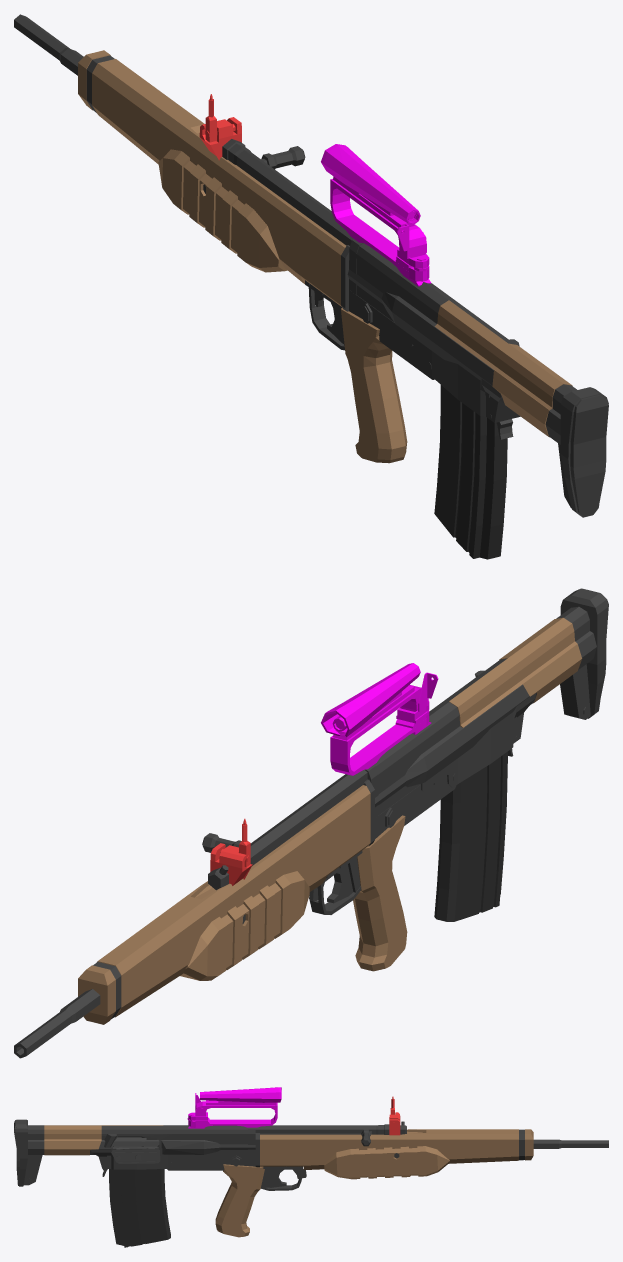
The model's file is fusil_14.glb.
3 renders of one model, top to bottom at view 1: azimuth 30°, elevation 25°; view 2: azimuth 150°, elevation 25°; view 3: azimuth 270°, elevation 25°, orthographic. The views are drawn at different scales.
Parts seen in each view (by area): view 1: p3_accent, p67_mag, p4_accent, p29_accent, p53_accent, p33_paint, p66_paint, p30_paint, p5_paint, p45_paint, p22_cut, p24_cut (+5 smaller); view 2: p3_accent, p67_mag, p4_accent, p29_accent, p53_accent, p33_paint, p30_paint, p5_paint, p24_cut, p45_paint, p22_cut, p65_paint (+6 smaller); view 3: p3_accent, p67_mag, p4_accent, p33_paint, p29_accent, p30_paint, p5_paint, p22_cut, p45_paint, p53_accent, p24_cut, p32_paint (+11 smaller).
Part boxes in pixels (x1=…): p3_accent: x1=92, y1=59, x2=346, y2=306; p67_mag: x1=434, y1=385, x2=507, y2=559; p4_accent: x1=158, y1=149, x2=287, y2=272; p29_accent: x1=341, y1=307, x2=407, y2=463; p53_accent: x1=435, y1=300, x2=572, y2=409; p33_paint: x1=349, y1=239, x2=576, y2=414; p66_paint: x1=570, y1=395, x2=608, y2=516; p30_paint: x1=347, y1=269, x2=560, y2=444; p5_paint: x1=222, y1=139, x2=353, y2=245; p45_paint: x1=397, y1=325, x2=520, y2=422; p22_cut: x1=321, y1=144, x2=420, y2=224; p24_cut: x1=330, y1=179, x2=426, y2=281; p3_accent: x1=97, y1=785, x2=370, y2=1017; p67_mag: x1=434, y1=751, x2=507, y2=921; p4_accent: x1=180, y1=871, x2=309, y2=980; p29_accent: x1=353, y1=815, x2=407, y2=971; p53_accent: x1=449, y1=617, x2=577, y2=727; p33_paint: x1=363, y1=606, x2=589, y2=817; p30_paint: x1=375, y1=631, x2=596, y2=807; p5_paint: x1=208, y1=770, x2=367, y2=890; p24_cut: x1=330, y1=685, x2=427, y2=775; p45_paint: x1=420, y1=693, x2=535, y2=790; p22_cut: x1=321, y1=663, x2=420, y2=737; p65_paint: x1=560, y1=588, x2=608, y2=718; p3_accent: x1=260, y1=1129, x2=518, y2=1169; p67_mag: x1=109, y1=1169, x2=170, y2=1247; p4_accent: x1=324, y1=1146, x2=449, y2=1179; p33_paint: x1=28, y1=1125, x2=255, y2=1155; p29_accent: x1=215, y1=1164, x2=264, y2=1237; p30_paint: x1=28, y1=1136, x2=255, y2=1154; p5_paint: x1=255, y1=1124, x2=406, y2=1134; p22_cut: x1=200, y1=1087, x2=281, y2=1102; p45_paint: x1=91, y1=1148, x2=203, y2=1169; p53_accent: x1=44, y1=1125, x2=163, y2=1140; p24_cut: x1=191, y1=1101, x2=277, y2=1127; p32_paint: x1=167, y1=1155, x2=255, y2=1170.
Size of the model in its own units: 0.0636 by 0.2588 by 0.889.
